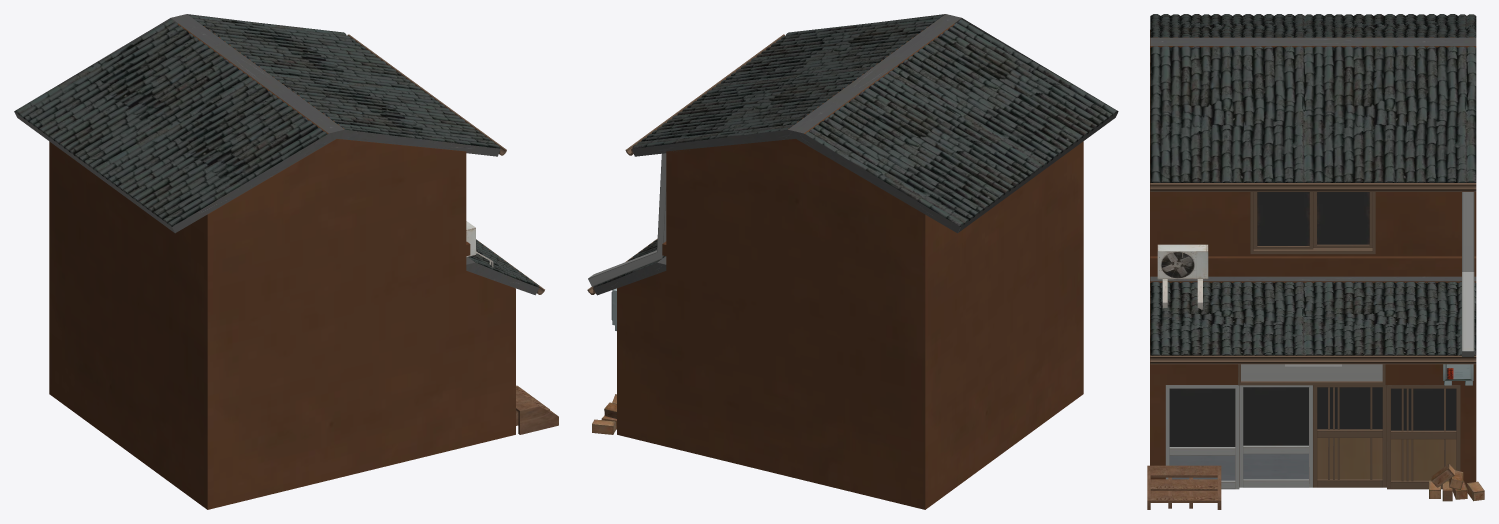
The model's file is jp-home2.glb.
The picture shows the model from 3 angles, left to right: view 1: azimuth 30°, elevation 25°; view 2: azimuth 150°, elevation 25°; view 3: azimuth 270°, elevation 25°; orthographic projection. The views are drawn at different scales.
Visible parts, largest first — view 1: JapaneseResidentialHome_02_blinn1_0; view 2: JapaneseResidentialHome_02_blinn1_0; view 3: JapaneseResidentialHome_02_blinn1_0.
Part boxes in pixels (left/top/right/bottom): JapaneseResidentialHome_02_blinn1_0: left=14, top=14, right=558, bottom=509; JapaneseResidentialHome_02_blinn1_0: left=587, top=14, right=1118, bottom=509; JapaneseResidentialHome_02_blinn1_0: left=1147, top=14, right=1484, bottom=509.
Size of the model in its own units: 12 by 10.33 by 8.83.
1 material, 1 textured.
